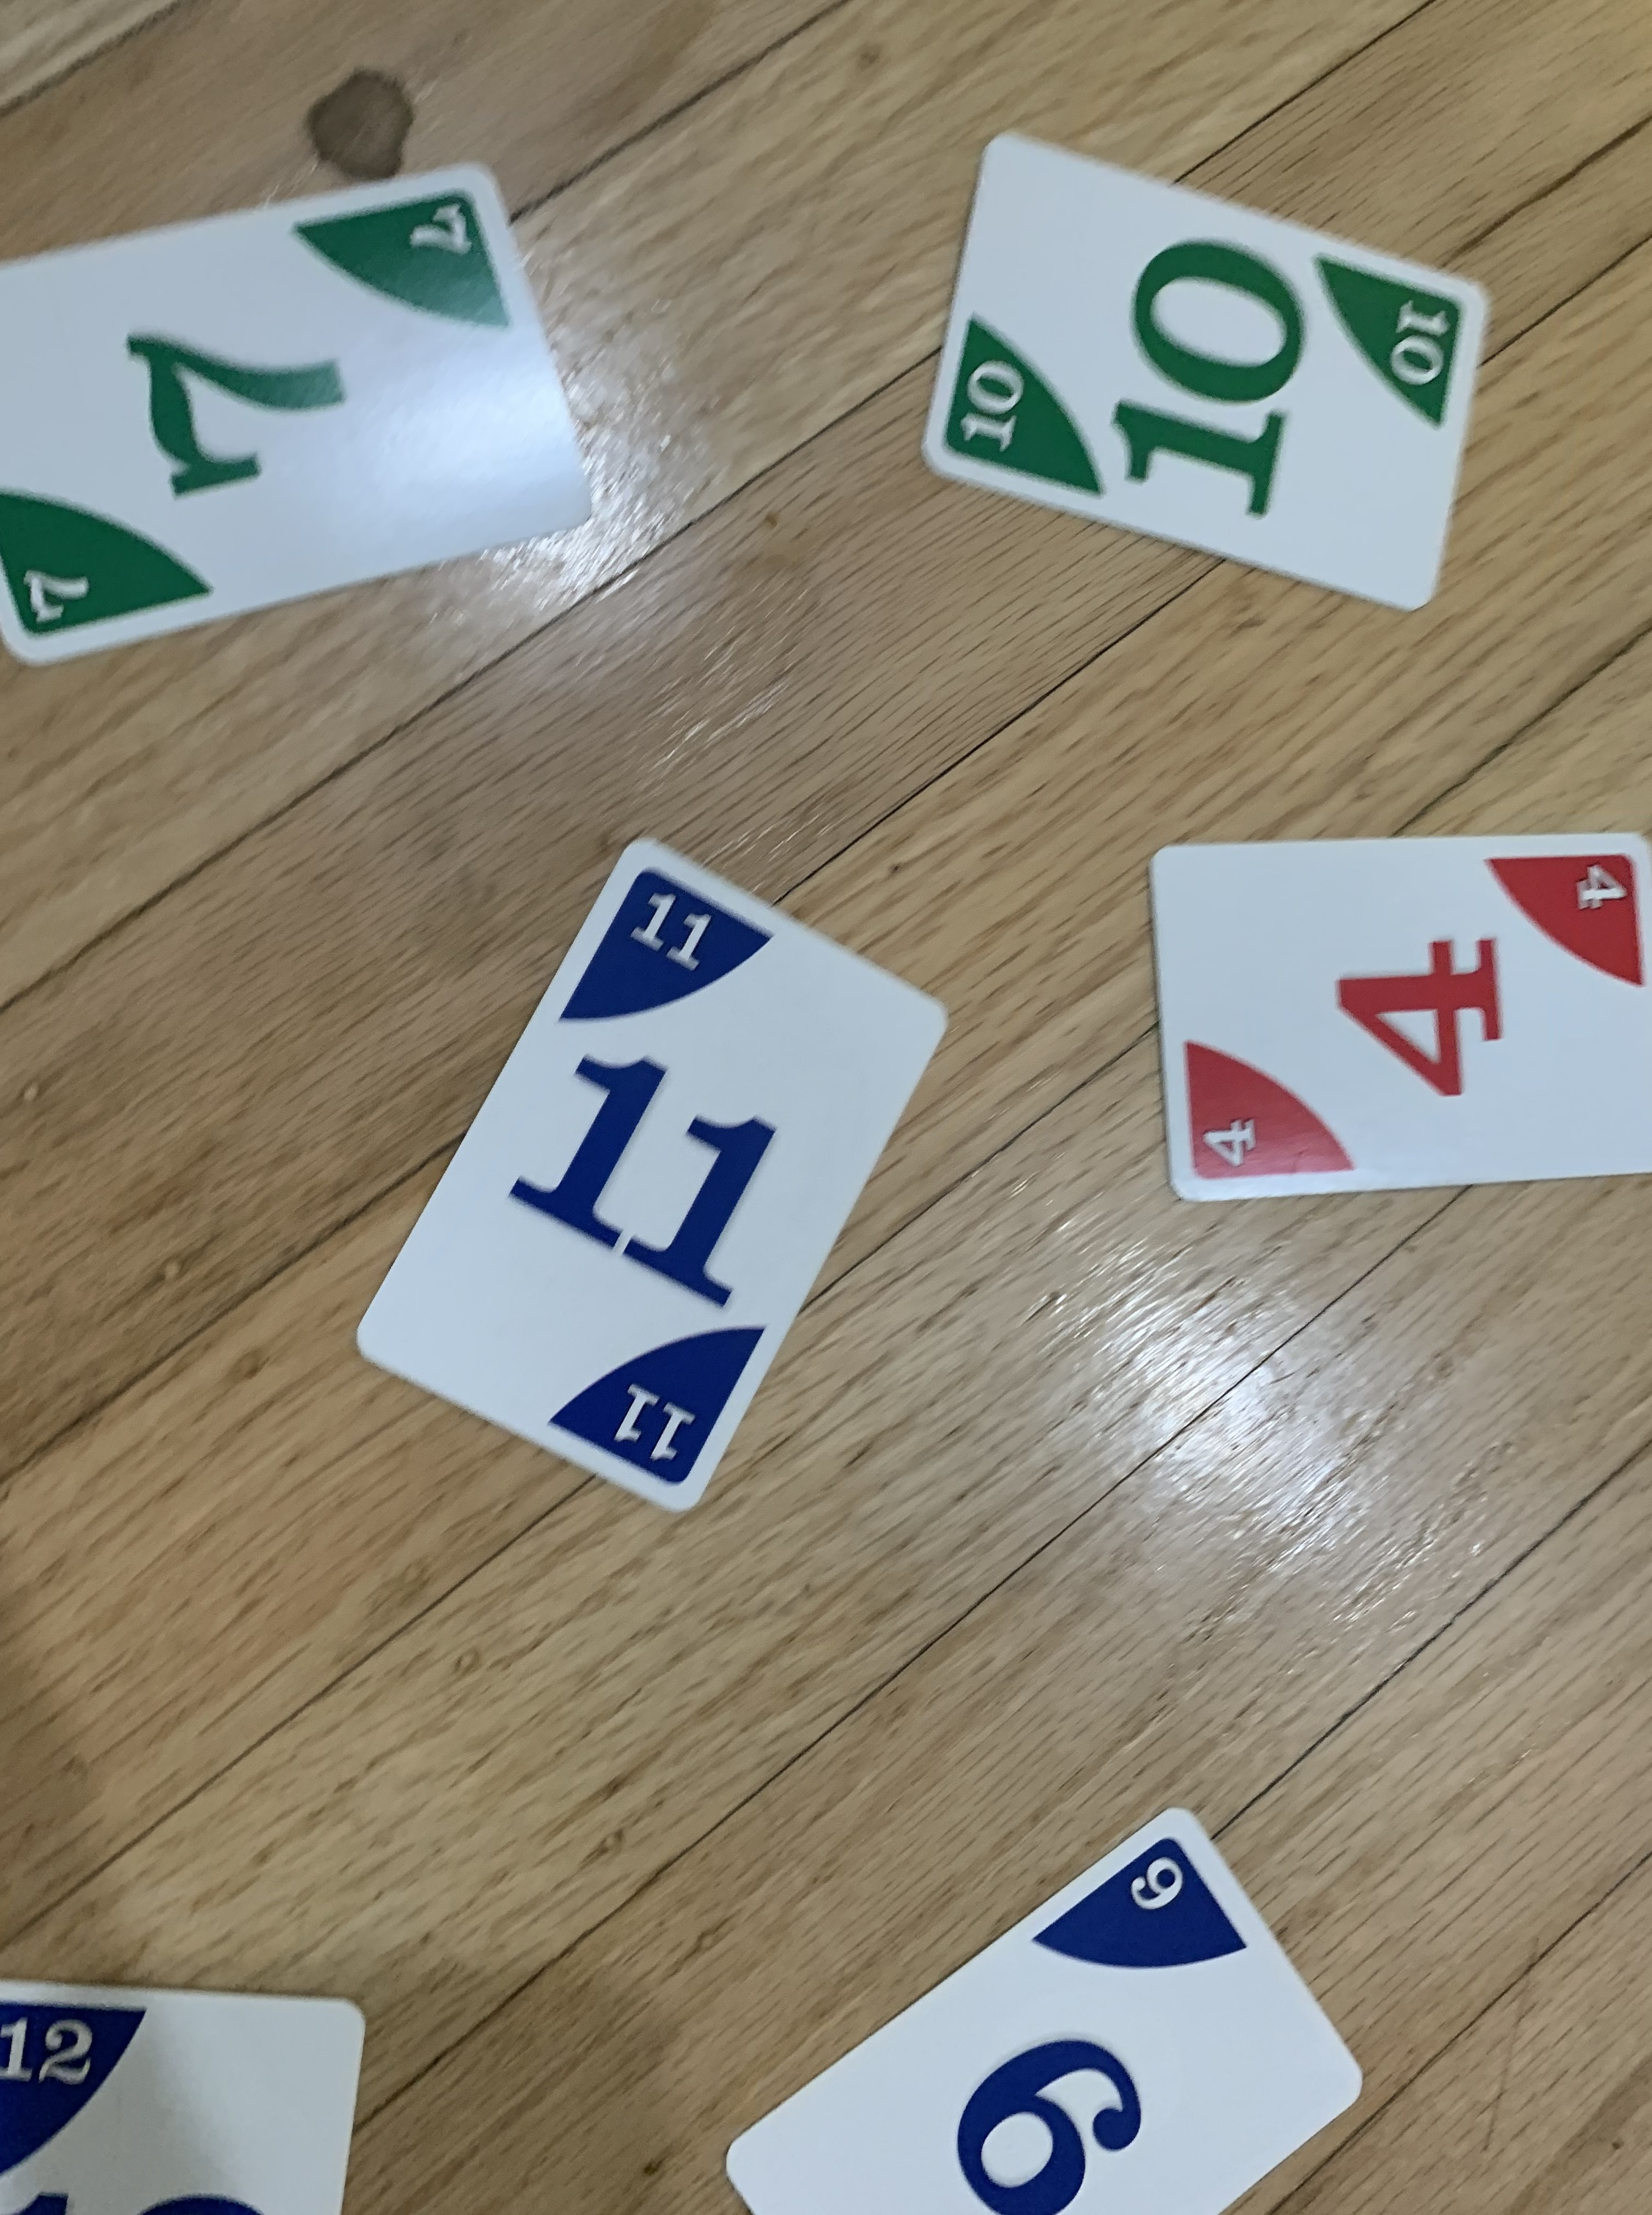eleven: (349, 830, 958, 1521)
four: (1144, 816, 1652, 1210)
seven: (5, 163, 588, 672)
six: (722, 1795, 1374, 2215)
ten: (901, 127, 1499, 630)
